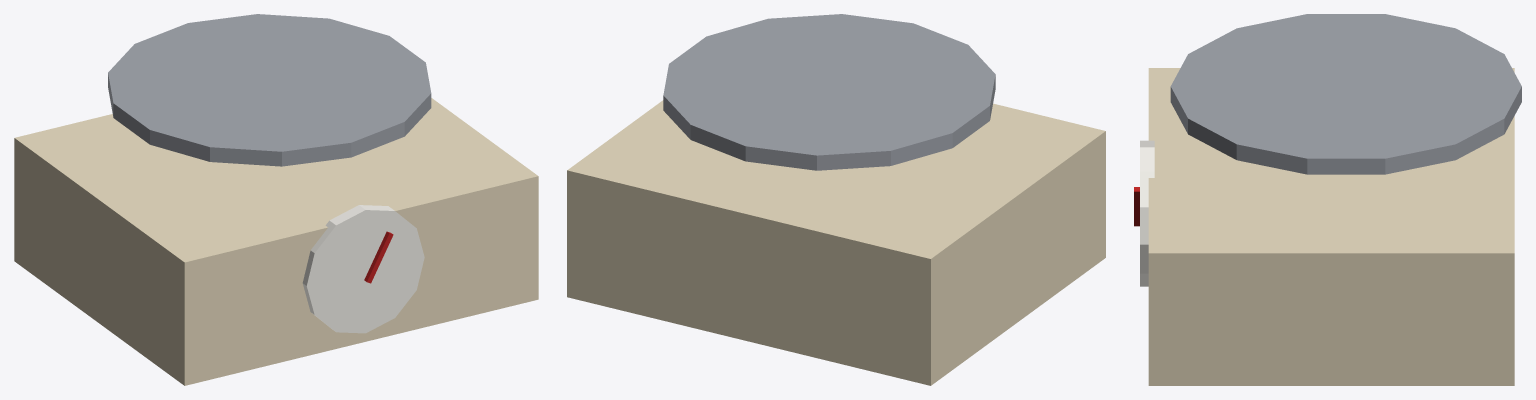
Rendered from booth_scale.glb.
The picture shows the model from 3 angles, left to right: view 1: azimuth 30°, elevation 25°; view 2: azimuth 150°, elevation 25°; view 3: azimuth 270°, elevation 25°; orthographic projection. The views are drawn at different scales.
Parts seen in each view (by area): view 1: body_scale_cream, plate_scale_steel, dial_white, needle_needle_red; view 2: body_scale_cream, plate_scale_steel; view 3: body_scale_cream, plate_scale_steel, dial_white.
Boxes of the visible parts, left/top/right/bottom form: body_scale_cream: left=14, top=98, right=538, bottom=385; plate_scale_steel: left=108, top=14, right=431, bottom=166; dial_white: left=302, top=205, right=424, bottom=333; needle_needle_red: left=364, top=231, right=393, bottom=283; body_scale_cream: left=567, top=100, right=1105, bottom=385; plate_scale_steel: left=663, top=14, right=995, bottom=170; body_scale_cream: left=1148, top=68, right=1514, bottom=385; plate_scale_steel: left=1170, top=14, right=1521, bottom=174; dial_white: left=1140, top=140, right=1154, bottom=286.
Bounding box in the file's own units: 0.3 × 0.156 × 0.265.
